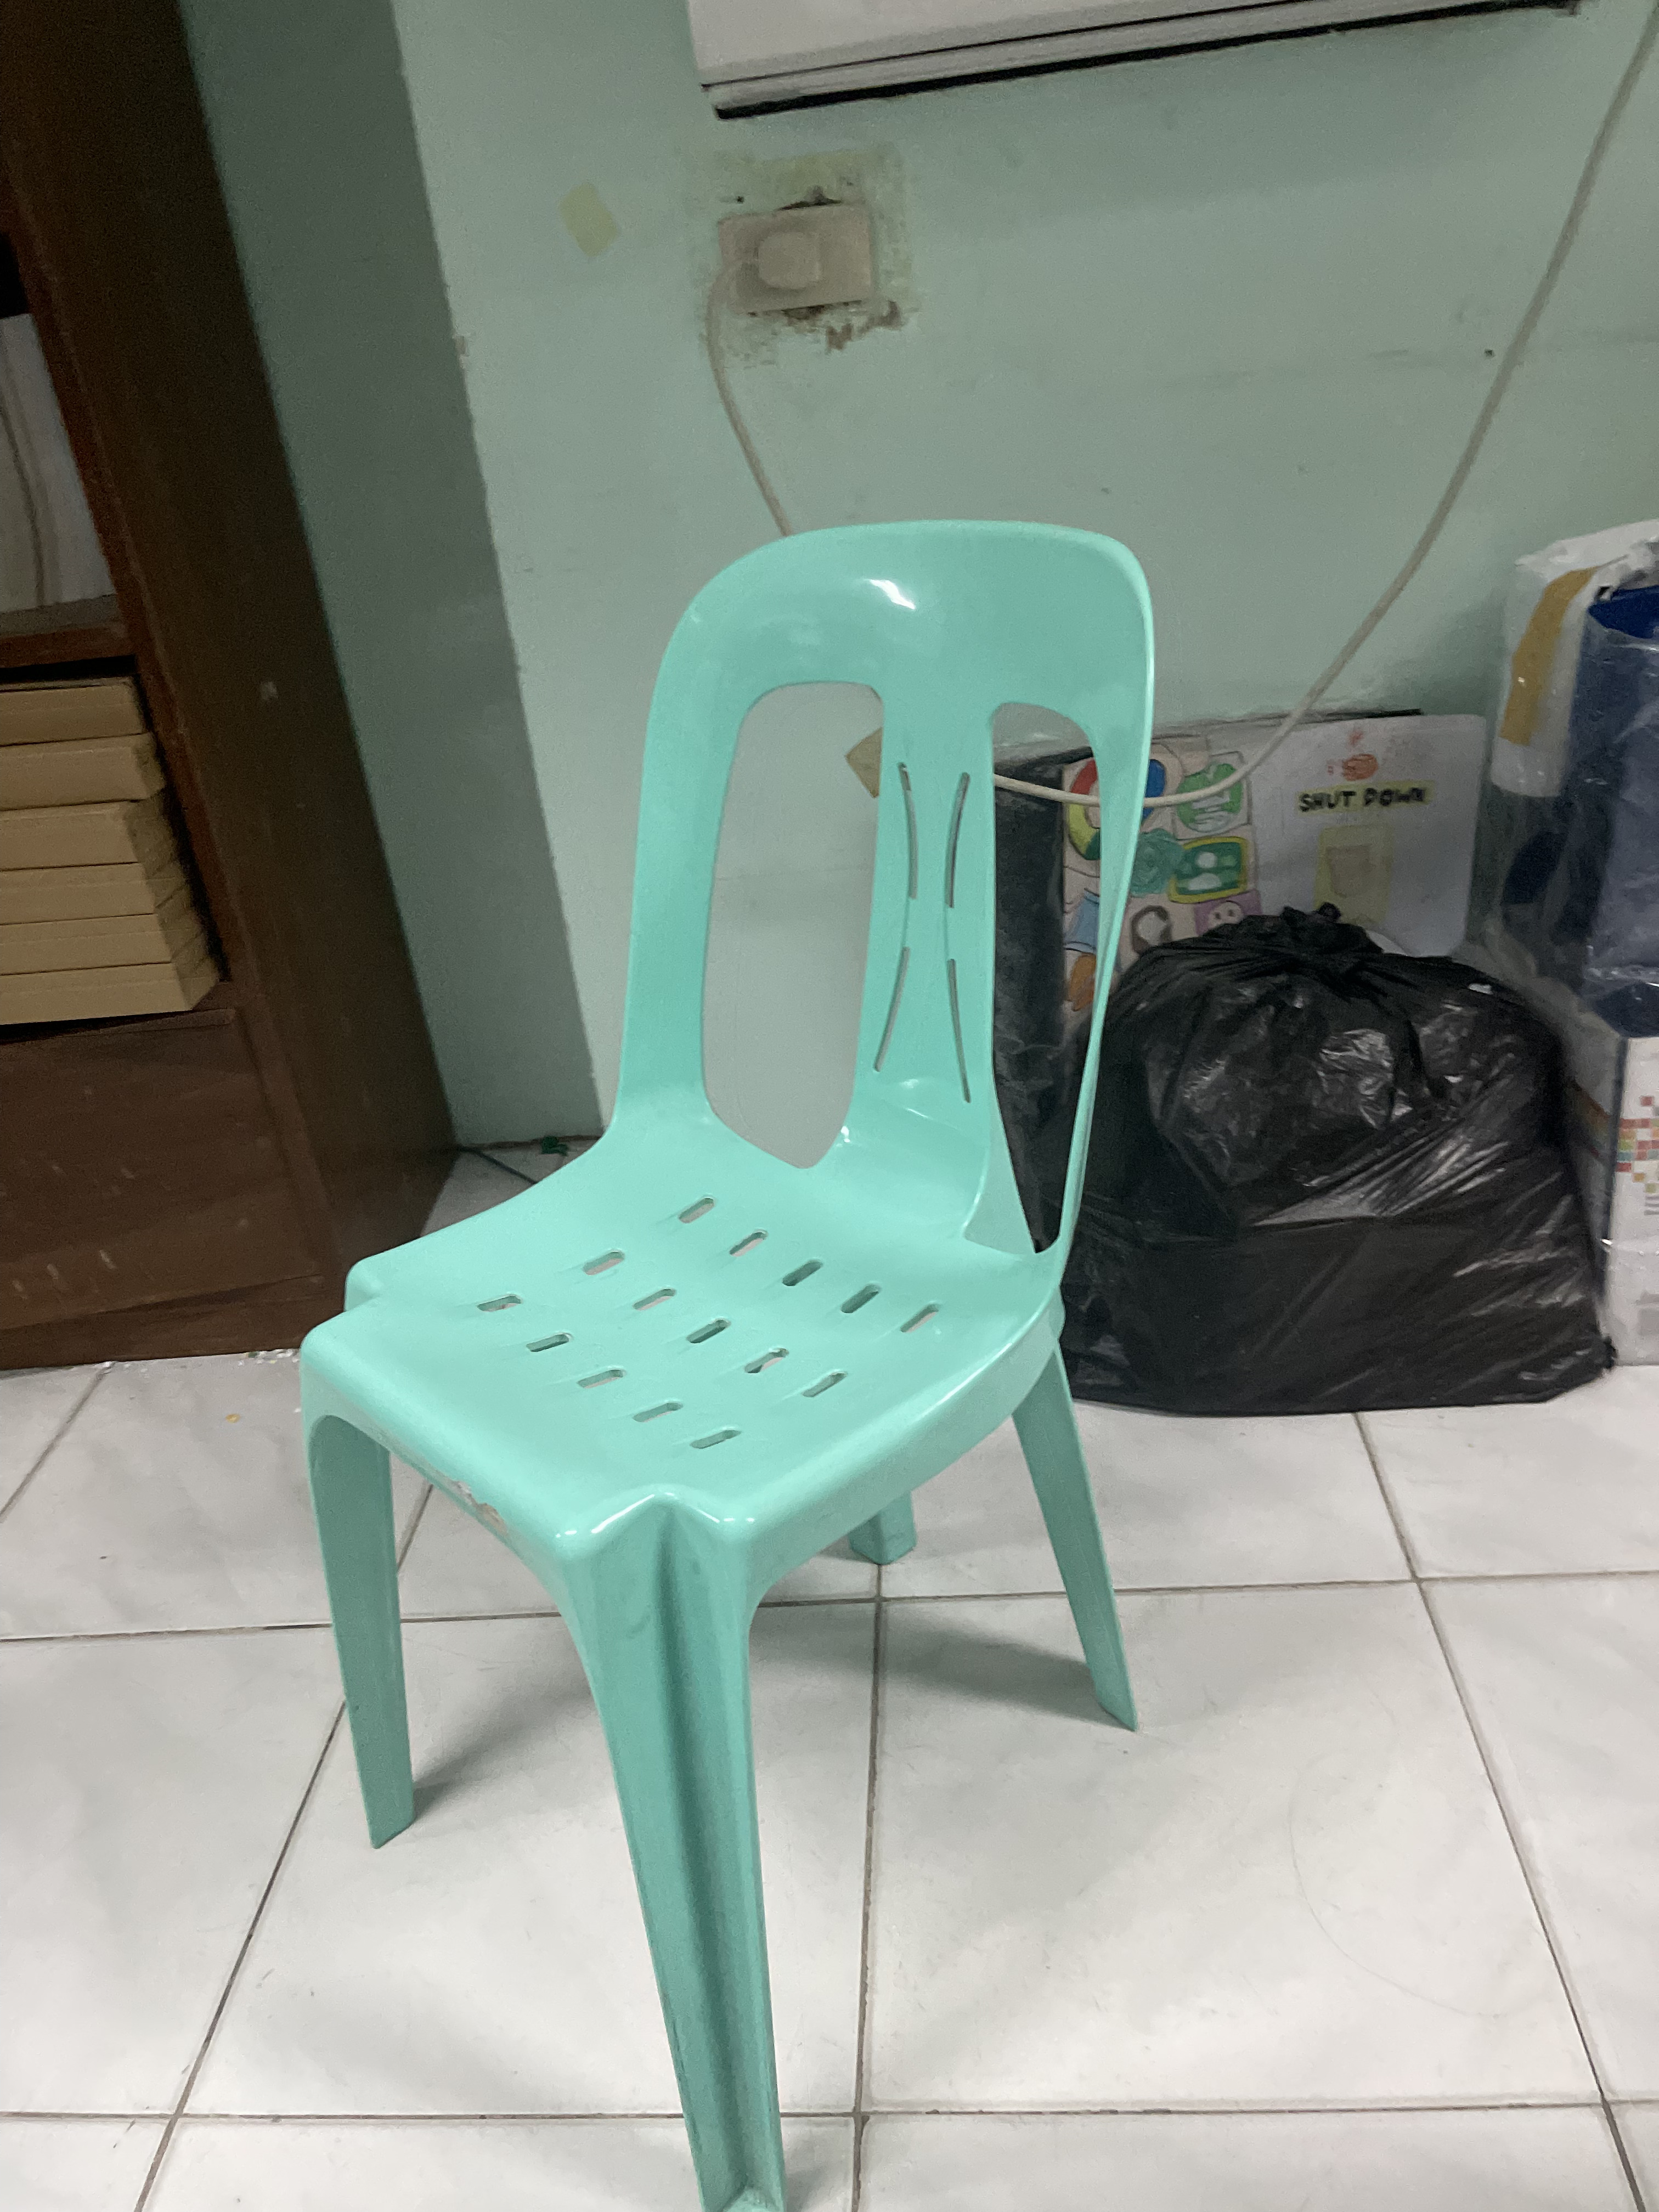chair2: (282, 512, 1175, 2212)
